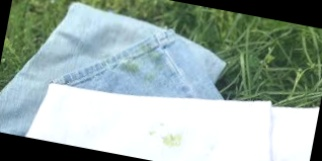earth: (148, 128, 183, 149), (139, 44, 163, 64), (118, 60, 138, 76)
